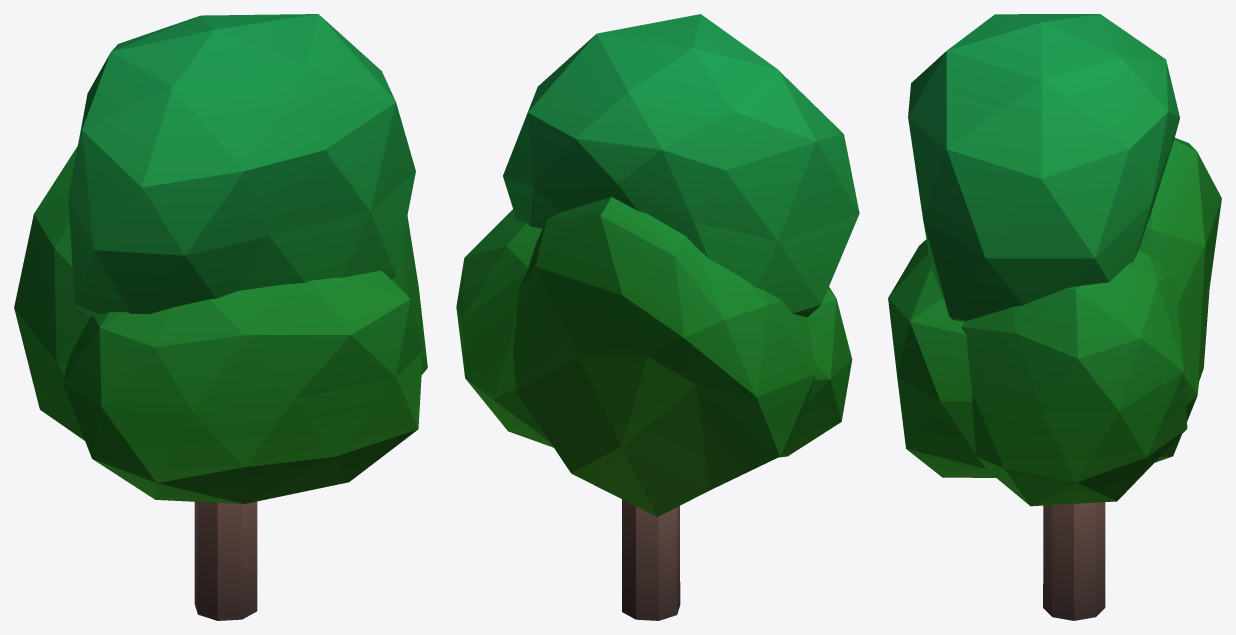
File: Tree.Oak.glb
3 views of the same model, side by side, from view 1: azimuth 30°, elevation 25°; view 2: azimuth 150°, elevation 25°; view 3: azimuth 270°, elevation 25° (orthographic). The views are drawn at different scales.
Visible parts, largest first — view 1: OakTree; view 2: OakTree; view 3: OakTree.
Boxes of the visible parts, x1,y1,x2,y2 form: OakTree: [14, 14, 427, 620]; OakTree: [456, 14, 859, 620]; OakTree: [888, 14, 1221, 620].
Size of the model in its own units: 4.28 by 6.7 by 3.54.
Materials: 1 (1 with a texture image).
